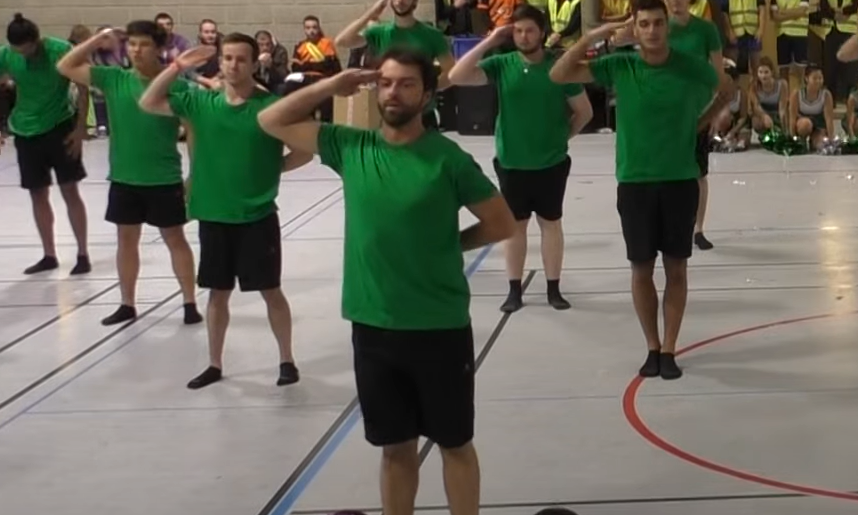without_mask: (380, 73, 416, 117), (637, 15, 665, 49), (128, 36, 154, 69), (515, 21, 540, 55), (222, 49, 249, 79), (670, 1, 688, 17), (203, 24, 215, 42), (394, 1, 411, 12), (306, 21, 316, 38), (811, 73, 822, 87), (758, 68, 770, 79)
